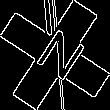N_SW: (25, 23, 85, 87)
